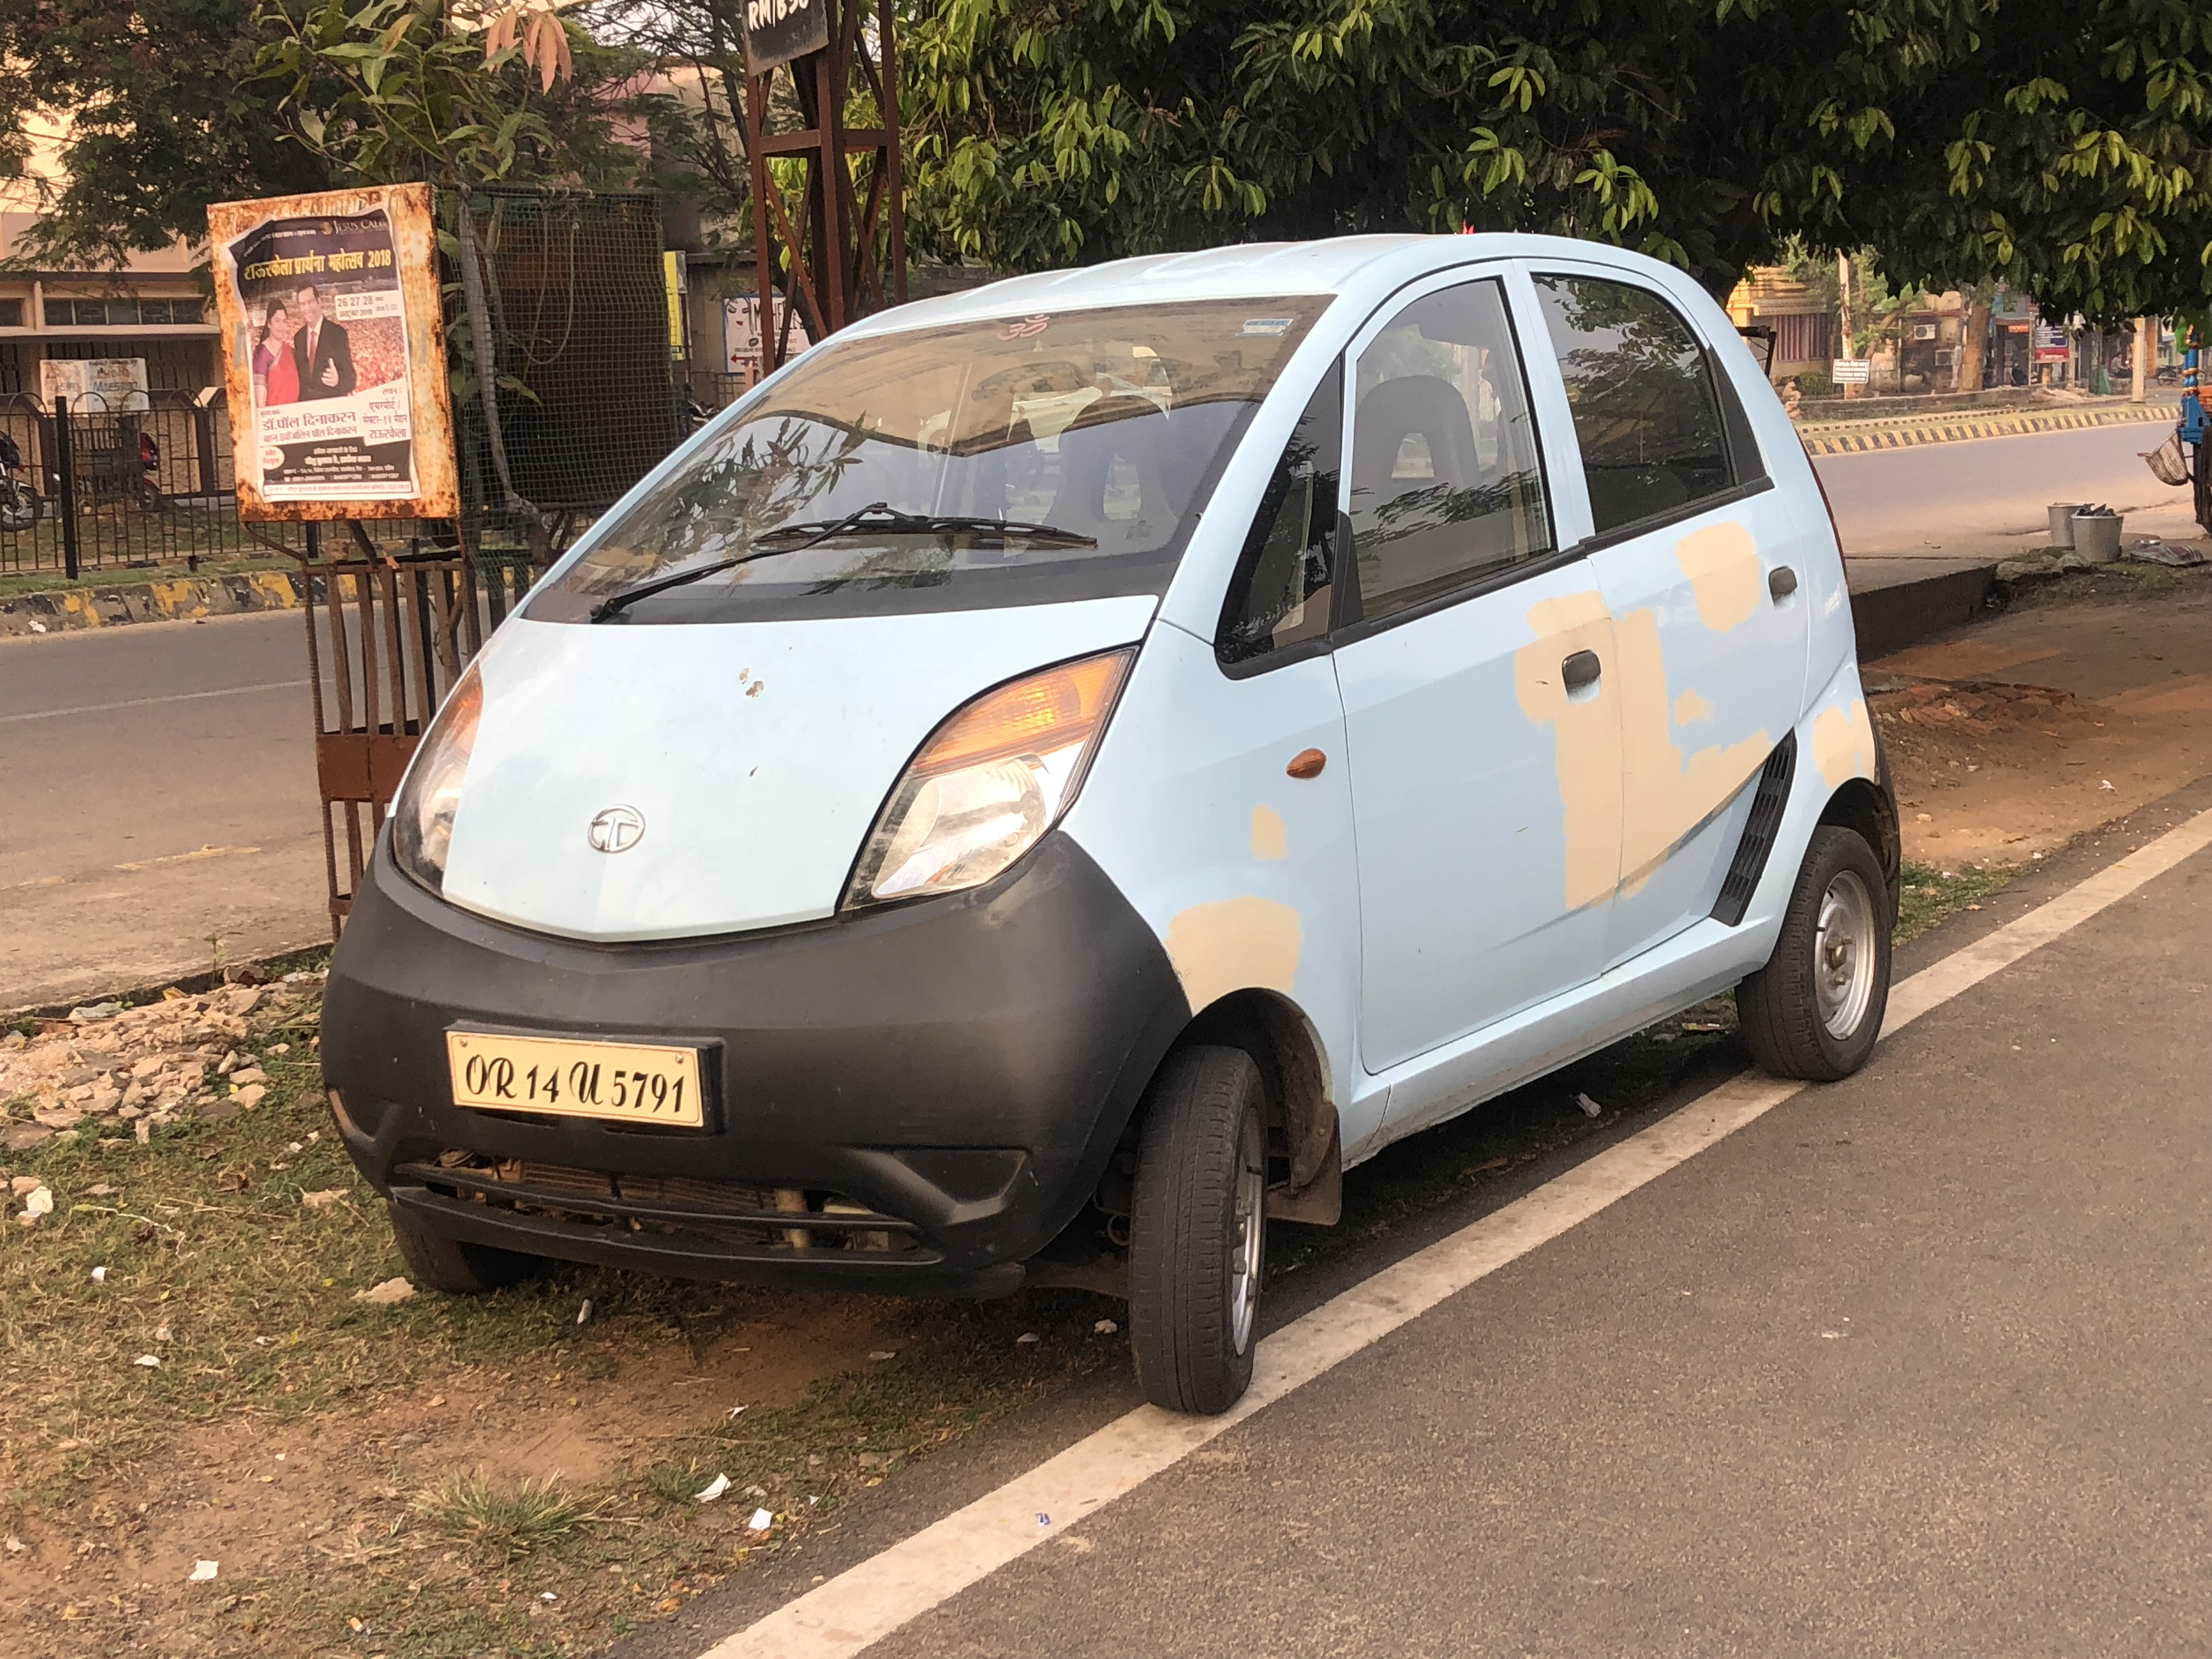licenseplate: (427, 1017, 731, 1137)
